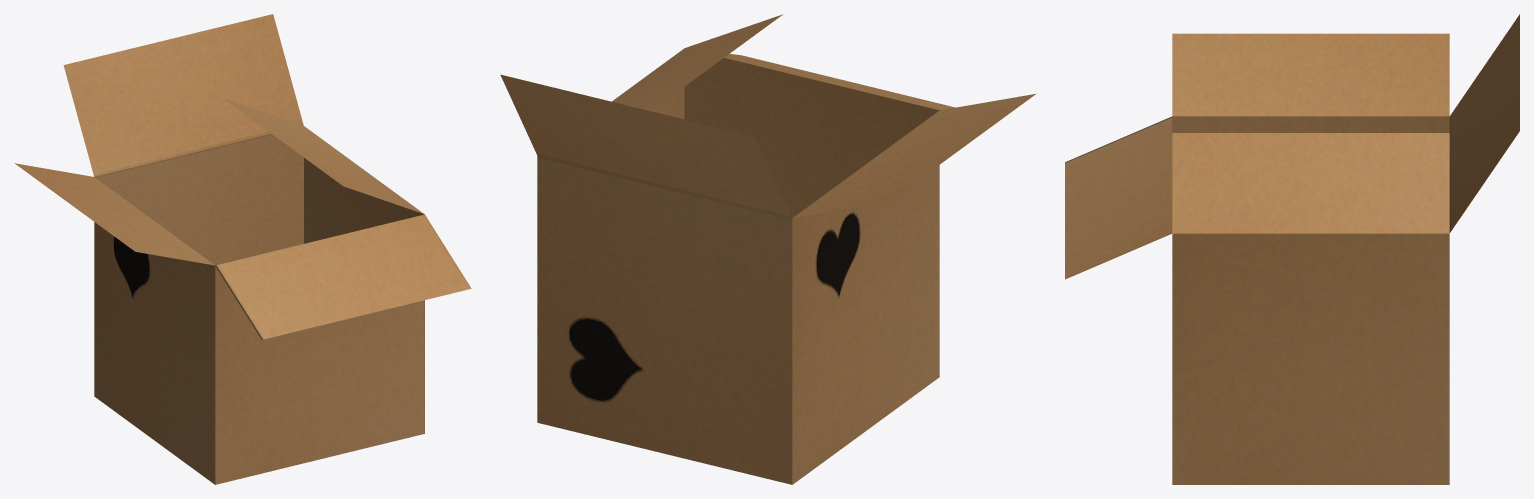
The model's file is bob_cardbox_open.FBX.
The picture shows the model from 3 angles, left to right: view 1: azimuth 30°, elevation 25°; view 2: azimuth 150°, elevation 25°; view 3: azimuth 270°, elevation 25°; orthographic projection. The views are drawn at different scales.
Parts seen in each view (by area): view 1: carboard_open; view 2: carboard_open; view 3: carboard_open.
Part boxes in pixels (box(x1,y1,x2,y2)): carboard_open: box(15, 14, 471, 484); carboard_open: box(500, 14, 1036, 484); carboard_open: box(1065, 14, 1519, 484).
Bounding box in the file's own units: 69.05 × 70.37 × 81.98.
1 material, 1 textured.
